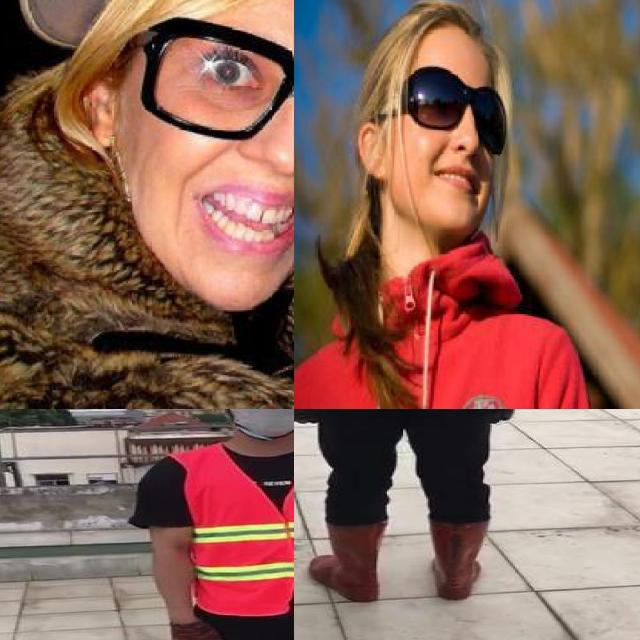No_Ear-Protection: (356, 123, 391, 185)
boots: (309, 519, 385, 602), (426, 518, 488, 599)
face_mask: (227, 409, 294, 437)
face_nomask: (143, 22, 294, 251), (400, 63, 502, 201)
glasses: (121, 11, 294, 169), (373, 64, 512, 160)
hand_glove: (171, 619, 229, 640), (486, 409, 515, 425), (294, 409, 316, 425)
head_nohelmet: (378, 2, 496, 66)
person: (294, 1, 605, 409), (294, 409, 563, 606), (135, 409, 294, 640)
vest: (178, 447, 294, 614)
